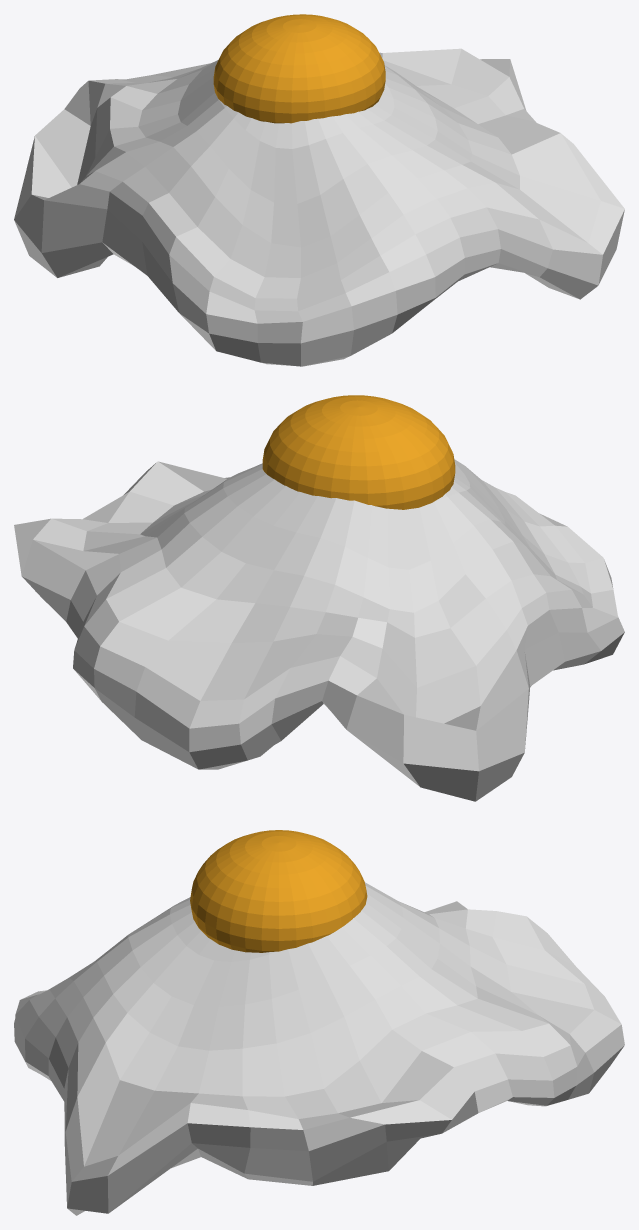
The model's file is EggHat.fbx.
3 renders of one model, top to bottom at view 1: azimuth 30°, elevation 25°; view 2: azimuth 150°, elevation 25°; view 3: azimuth 270°, elevation 25°, orthographic. The views are drawn at different scales.
Visible parts, largest first — view 1: Sphere, Sphere.001; view 2: Sphere, Sphere.001; view 3: Sphere, Sphere.001.
Part boxes in pixels (<box>): Sphere: <box>14,48,624,366</box>; Sphere.001: <box>213,14,385,123</box>; Sphere: <box>14,459,624,801</box>; Sphere.001: <box>262,395,455,509</box>; Sphere: <box>14,882,624,1215</box>; Sphere.001: <box>190,830,367,952</box>.
Bounding box in the file's own units: 167 × 87.01 × 176.
